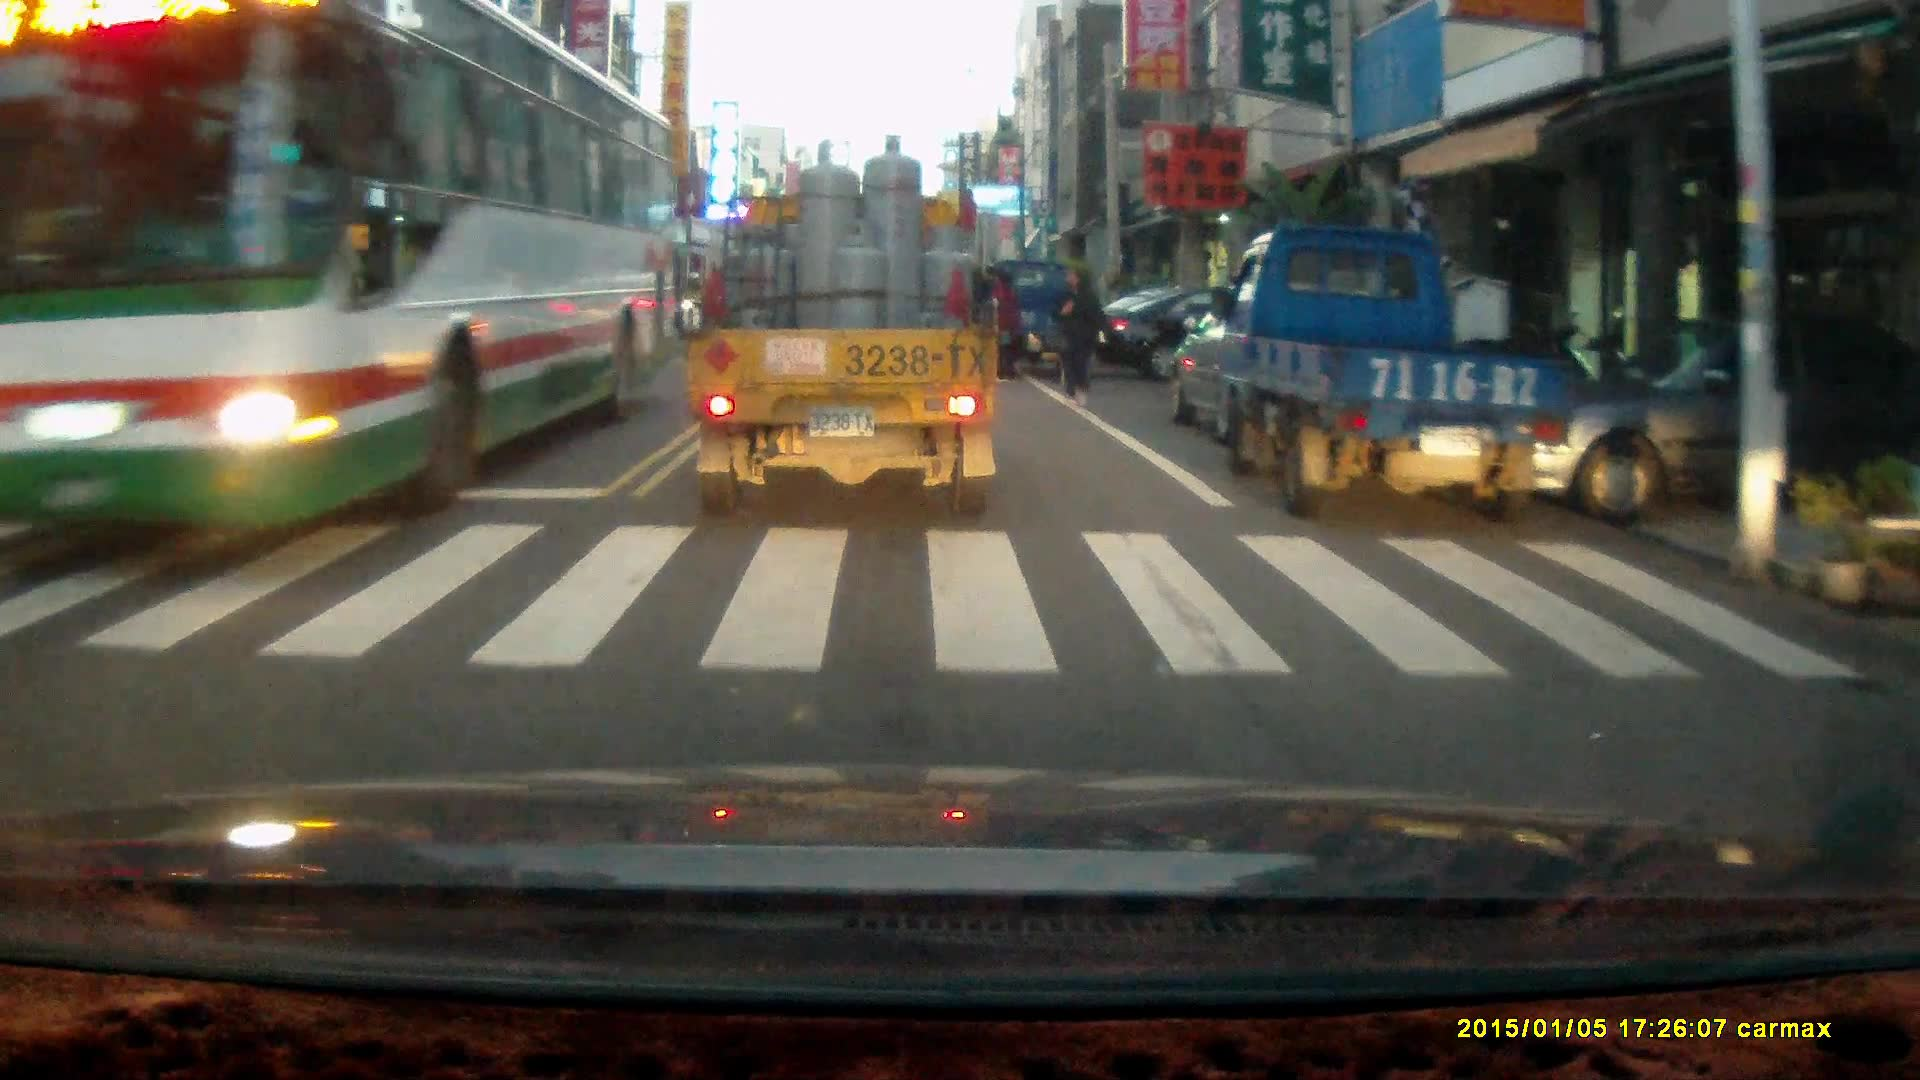pedestrian: (1051, 264, 1104, 405), (986, 264, 1021, 383)
vehicle: (1, 18, 658, 531), (683, 133, 1006, 522), (1201, 221, 1576, 521), (1495, 331, 1780, 511), (1100, 268, 1330, 382), (982, 260, 1098, 383)
